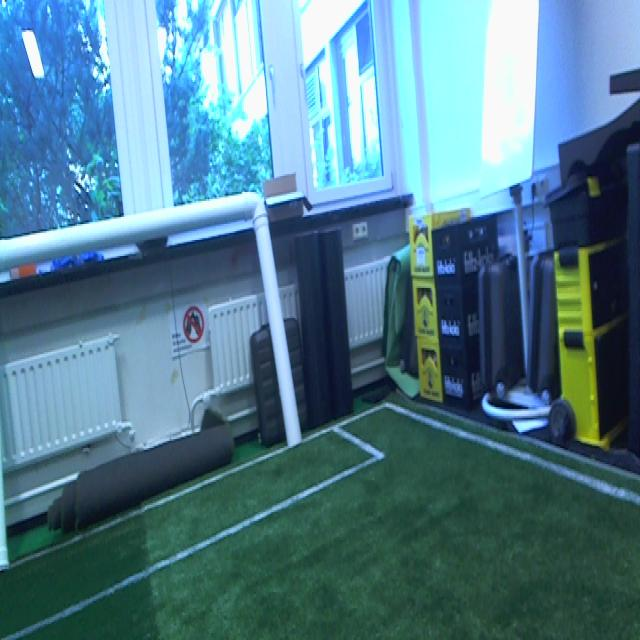goalpost: (245, 194, 304, 455)
